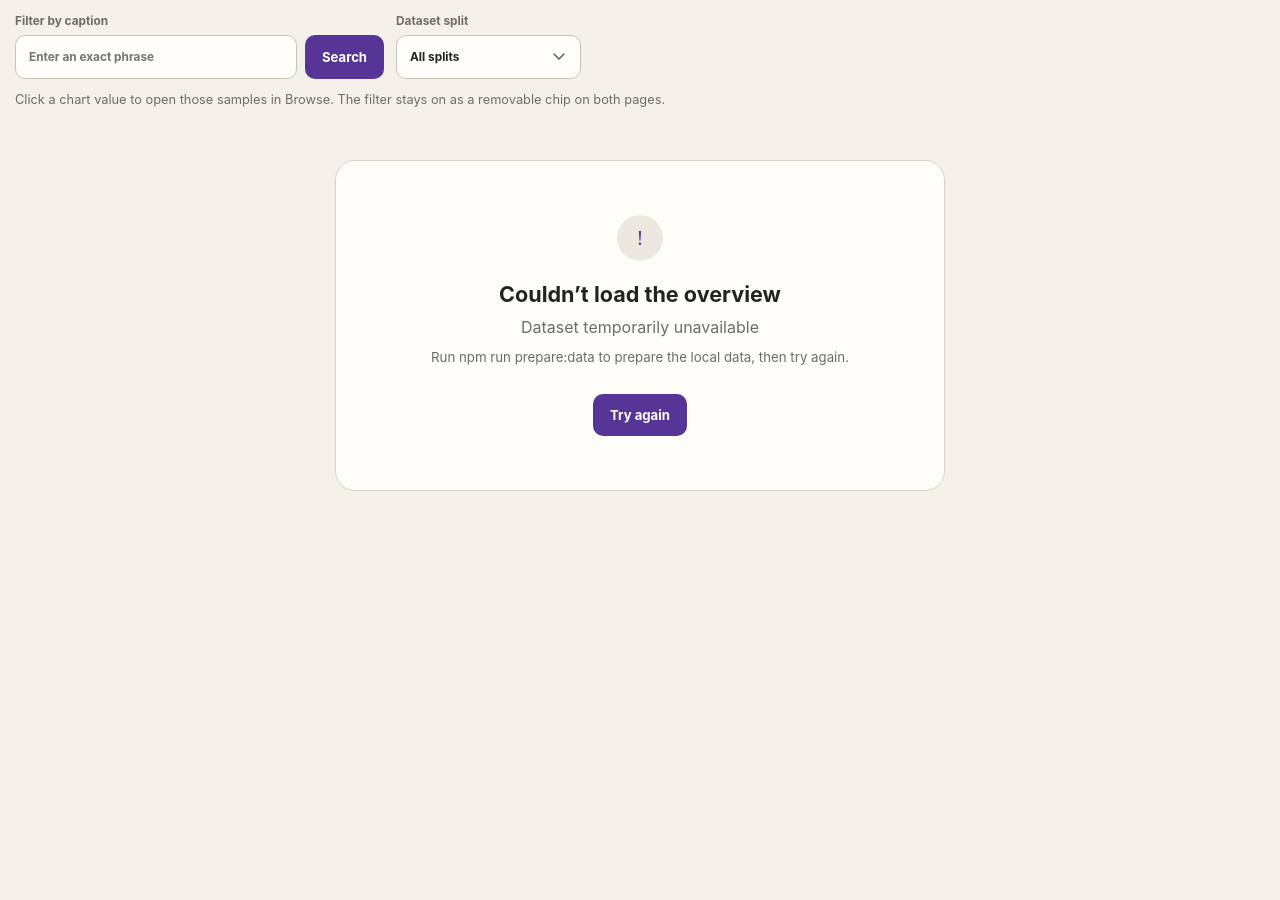
it: retries a failed overview request
Expected: the message shows "Dataset temporarily unavailable", [521, 316, 759, 336]
Click the button "Try again".
click(640, 415)  # box [593, 394, 687, 436]
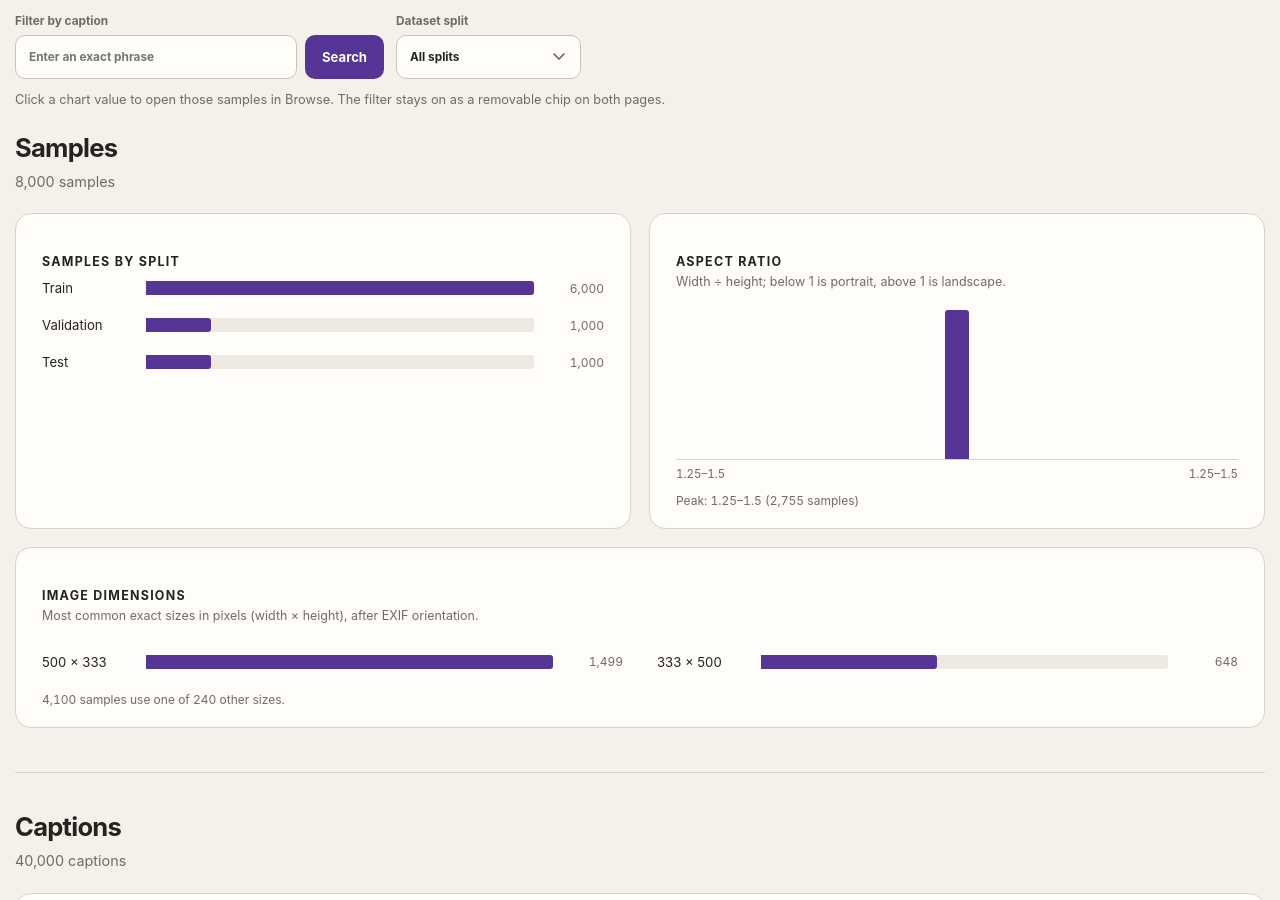
Result: the text "8,000 samples" is shown at [15, 172, 115, 190]
